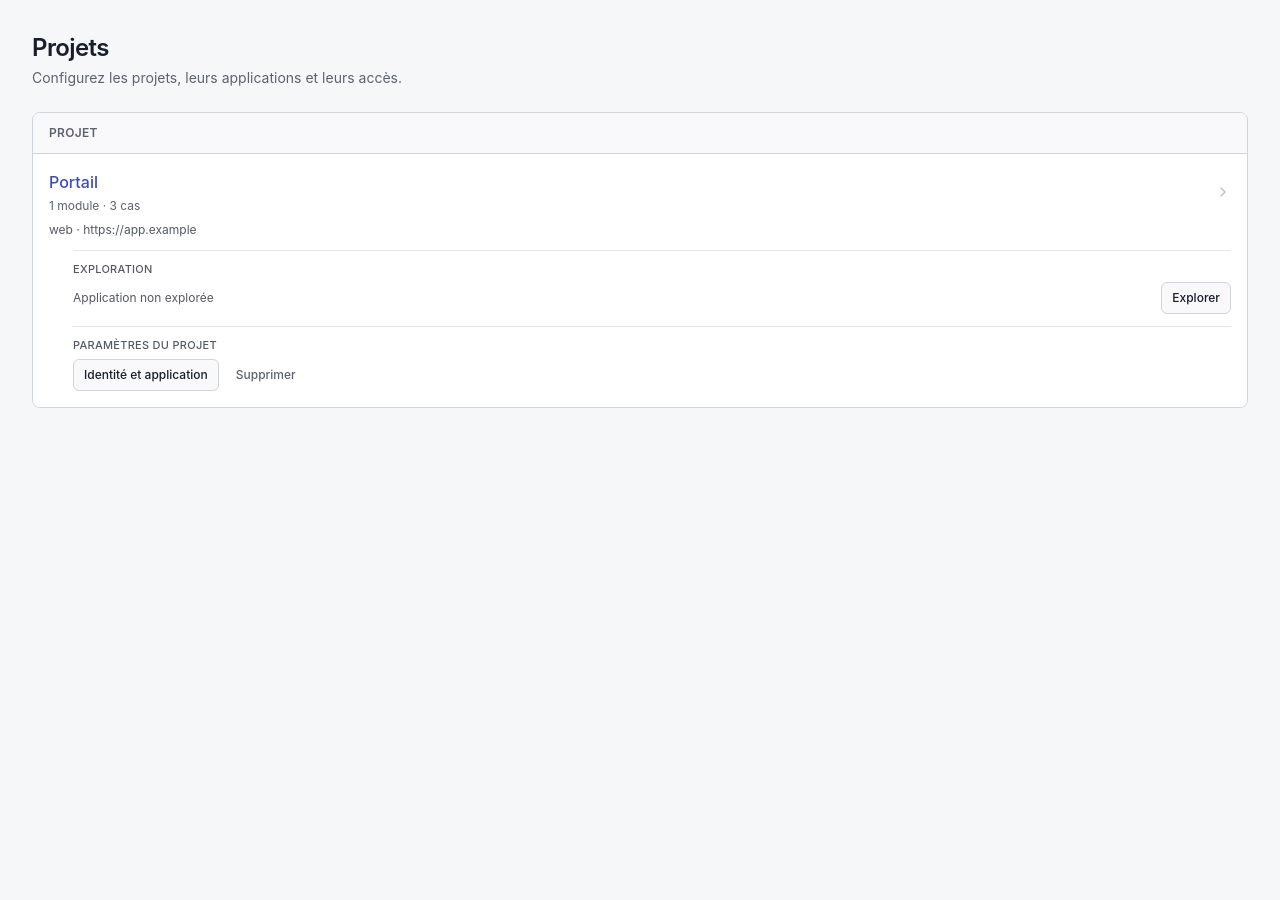
ProjectsList — comptes de test du projet › affiche l'erreur du serveur (libellé en double, réservé…) au lieu de l'avaler
Click the button "Identité et application": (146, 375) [73,359,219,391]
(page scrolled)
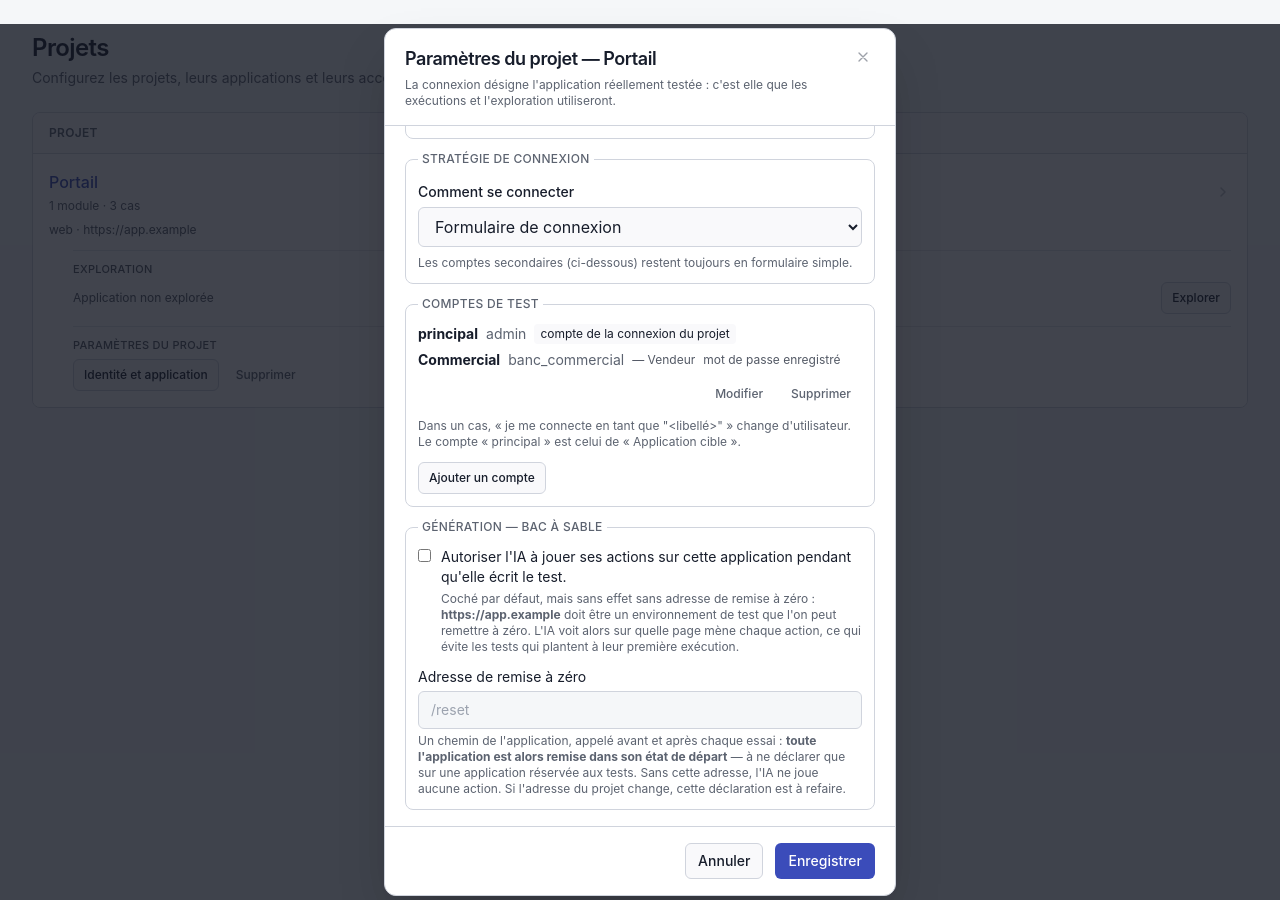
Click the button with test id "compte-ajouter": (482, 478) [418,462,546,494]
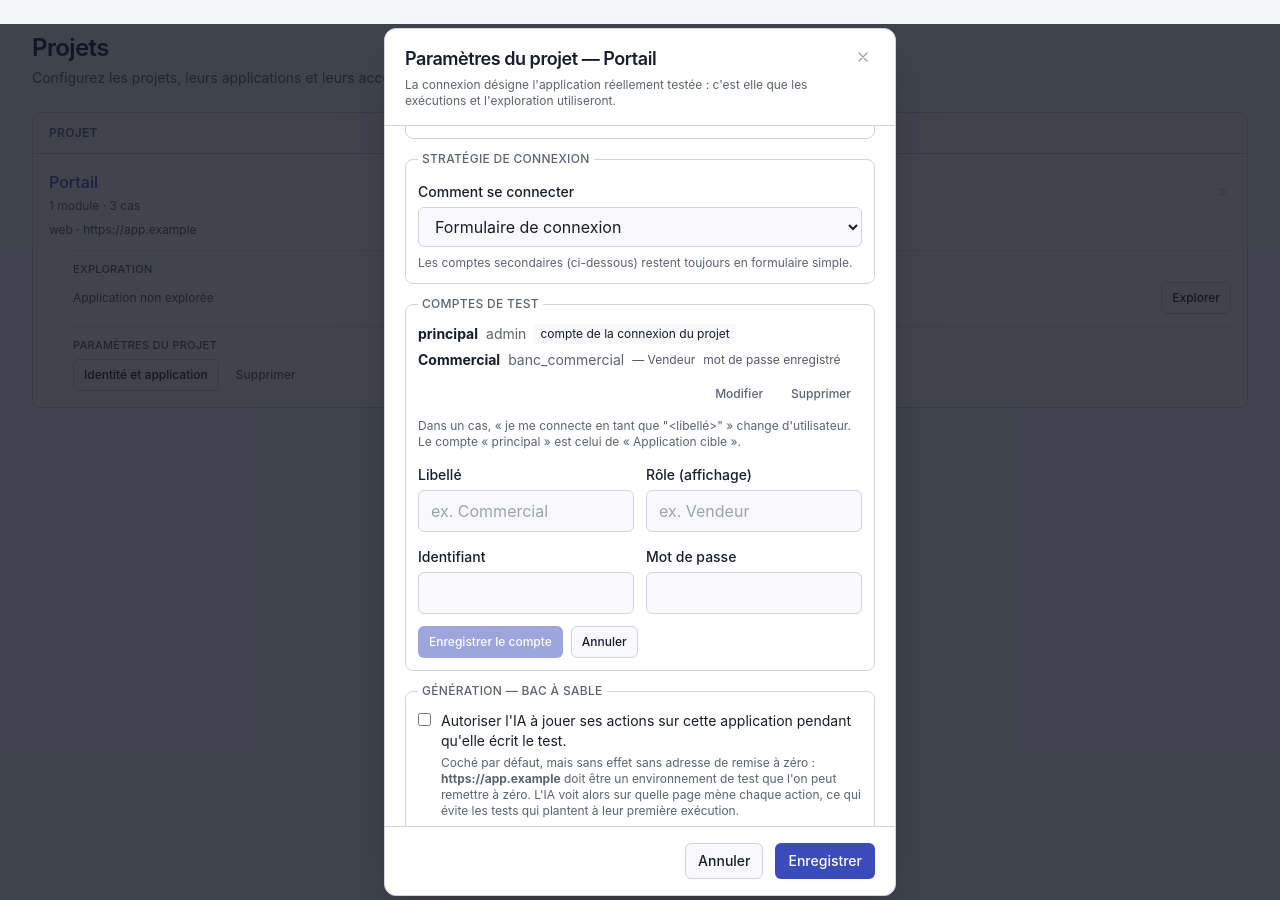
In the field with test id "compte-libelle": (526, 511) [418,490,634,532], type "commercial"
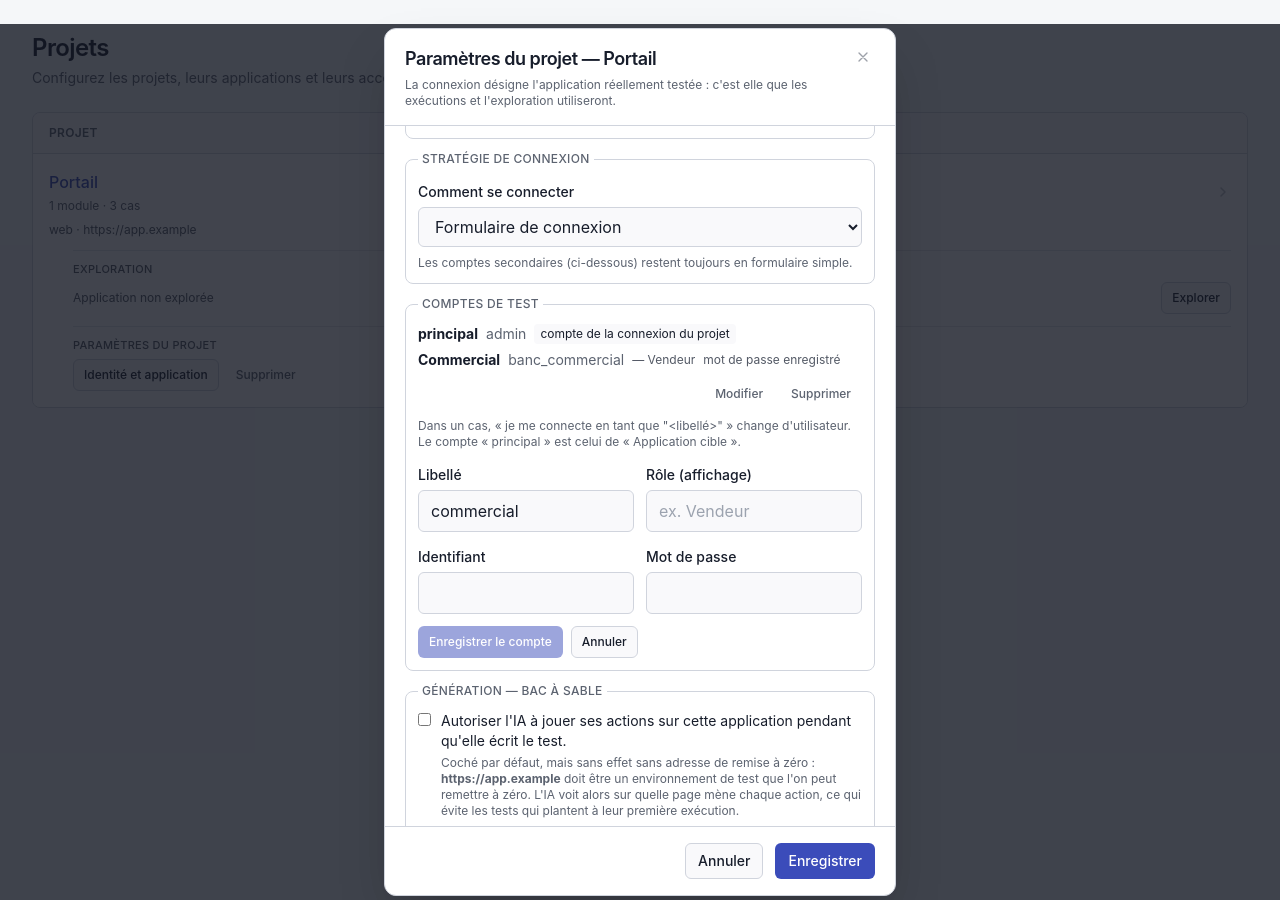
In the field with test id "compte-identifiant": (526, 593) [418,572,634,614], type "x"
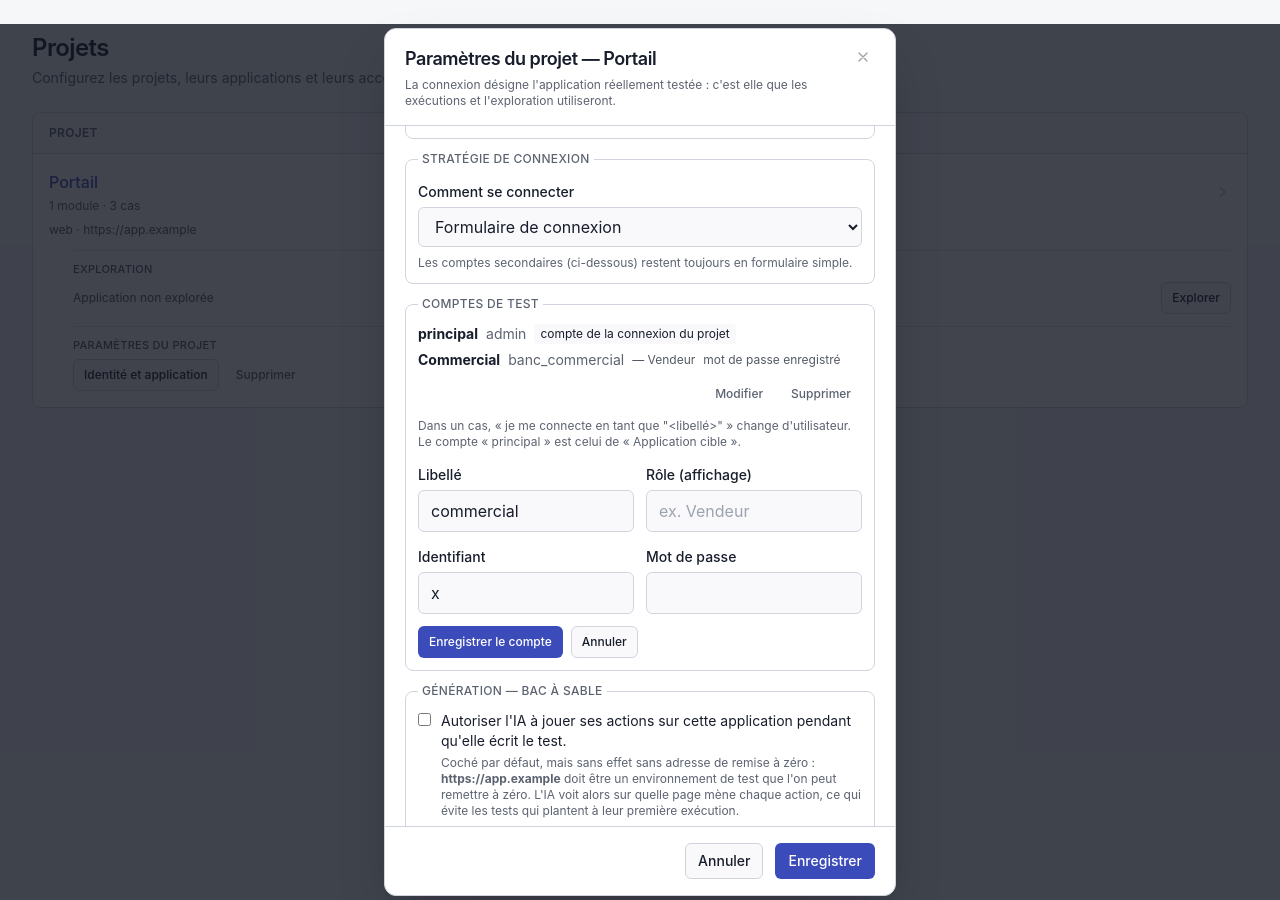
Click the button with test id "compte-enregistrer": (490, 642) [418,626,563,658]
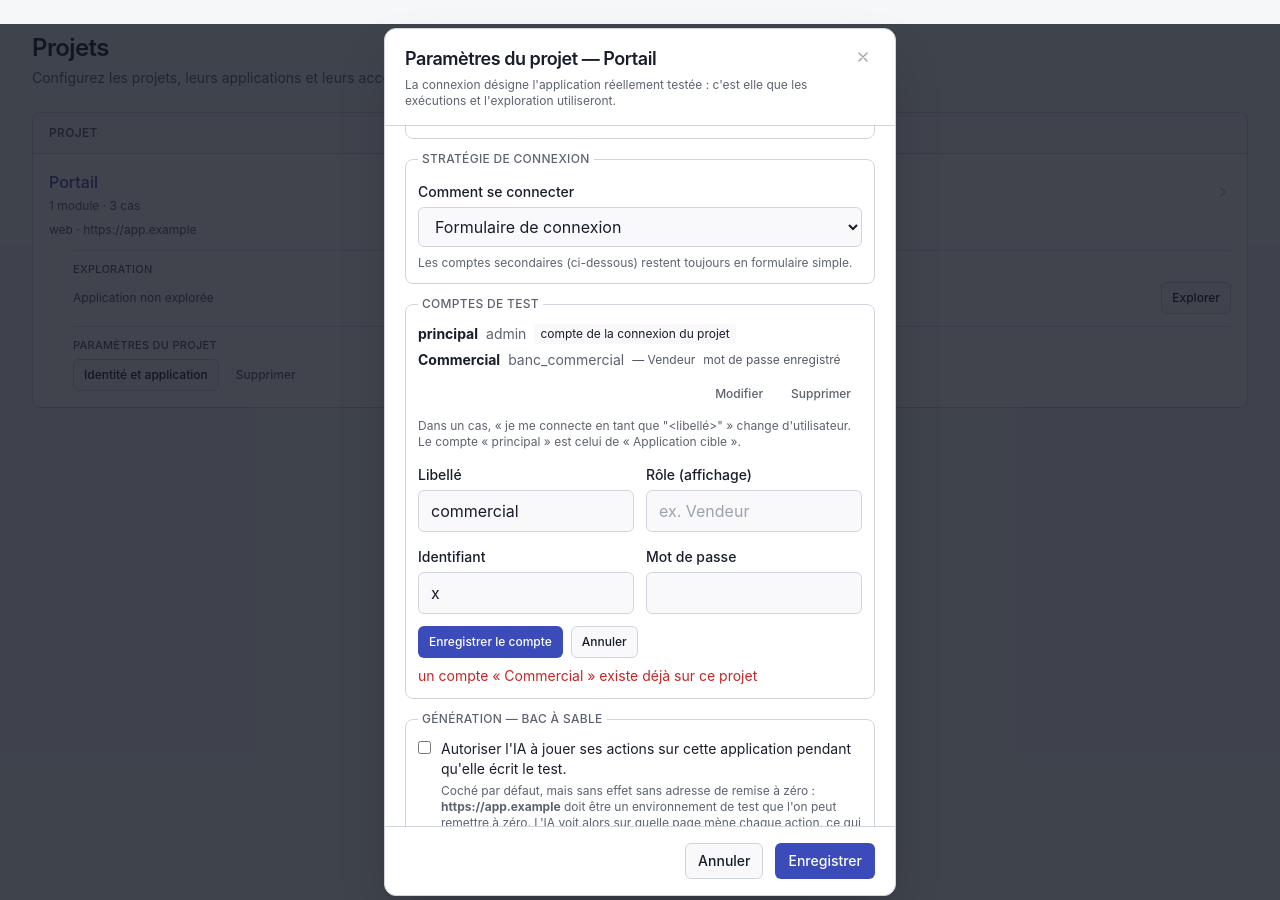
Result: the element with test id "compte-formulaire" is shown at [418,462,862,658]
Result: the message with test id "compte-erreur" shows "existe déjà" at [418,667,757,684]
